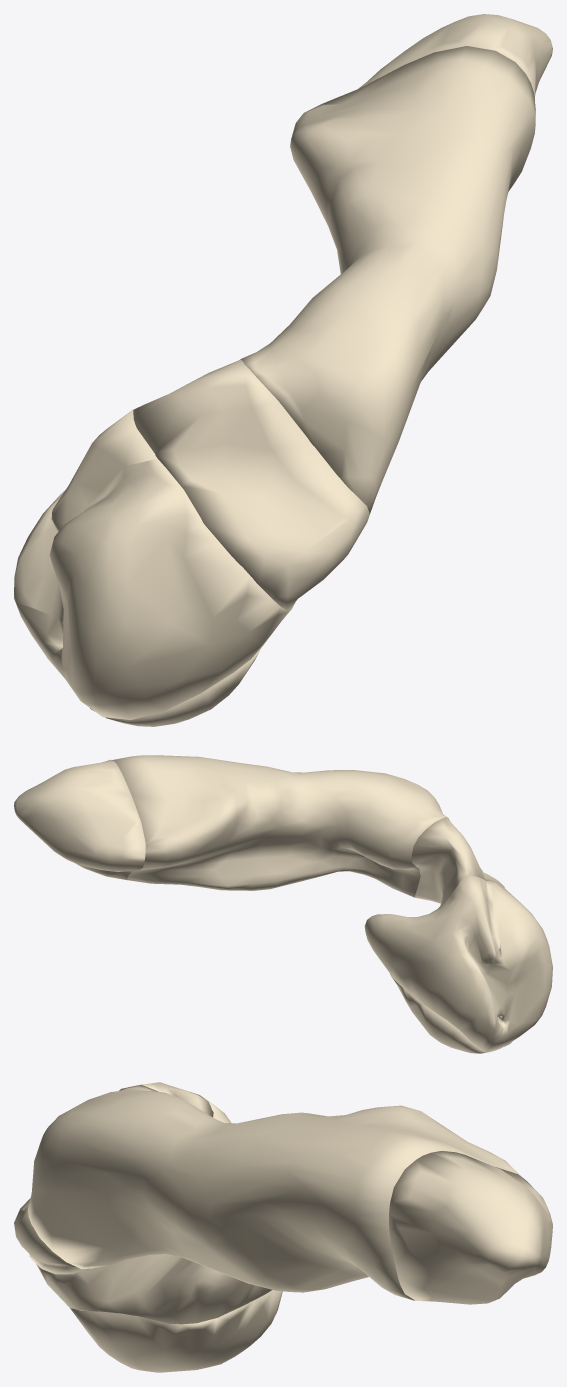
Rendered from vh_m_pancreas-20.glb.
3 views of the same model, one above another, from view 1: azimuth 30°, elevation 25°; view 2: azimuth 150°, elevation 25°; view 3: azimuth 270°, elevation 25° (orthographic). The views are drawn at different scales.
Visible parts, largest first — view 1: VH_M_body_of_pancreas, VH_M_head_of_pancreas, VH_M_neck_of_pancreas, VH_M_tail_of_pancreas, VH_M_uncinate_process_of_the_pancreas; view 2: VH_M_body_of_pancreas, VH_M_head_of_pancreas, VH_M_tail_of_pancreas, VH_M_neck_of_pancreas, VH_M_uncinate_process_of_the_pancreas; view 3: VH_M_body_of_pancreas, VH_M_tail_of_pancreas, VH_M_head_of_pancreas, VH_M_uncinate_process_of_the_pancreas, VH_M_neck_of_pancreas.
Part boxes in pixels (x1,y1,x2,y2): VH_M_body_of_pancreas: [240, 46, 535, 521]; VH_M_head_of_pancreas: [14, 409, 289, 719]; VH_M_neck_of_pancreas: [133, 360, 369, 610]; VH_M_tail_of_pancreas: [330, 14, 552, 100]; VH_M_uncinate_process_of_the_pancreas: [90, 647, 261, 726]; VH_M_body_of_pancreas: [112, 755, 447, 897]; VH_M_head_of_pancreas: [364, 875, 552, 1052]; VH_M_tail_of_pancreas: [14, 759, 145, 880]; VH_M_neck_of_pancreas: [411, 817, 504, 905]; VH_M_uncinate_process_of_the_pancreas: [390, 974, 512, 1053]; VH_M_body_of_pancreas: [28, 1085, 523, 1300]; VH_M_tail_of_pancreas: [389, 1151, 552, 1304]; VH_M_head_of_pancreas: [36, 1096, 272, 1324]; VH_M_uncinate_process_of_the_pancreas: [70, 1290, 282, 1372]; VH_M_neck_of_pancreas: [14, 1082, 213, 1274].
Size of the model in its own units: 0.1114 by 0.0721 by 0.0837.
